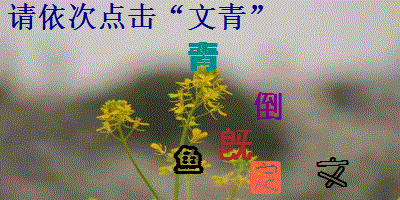result: (186, 2, 249, 31)
text: (218, 126, 254, 163), (314, 155, 351, 190), (187, 41, 221, 73), (249, 160, 281, 194), (171, 145, 206, 175), (252, 91, 284, 121)
